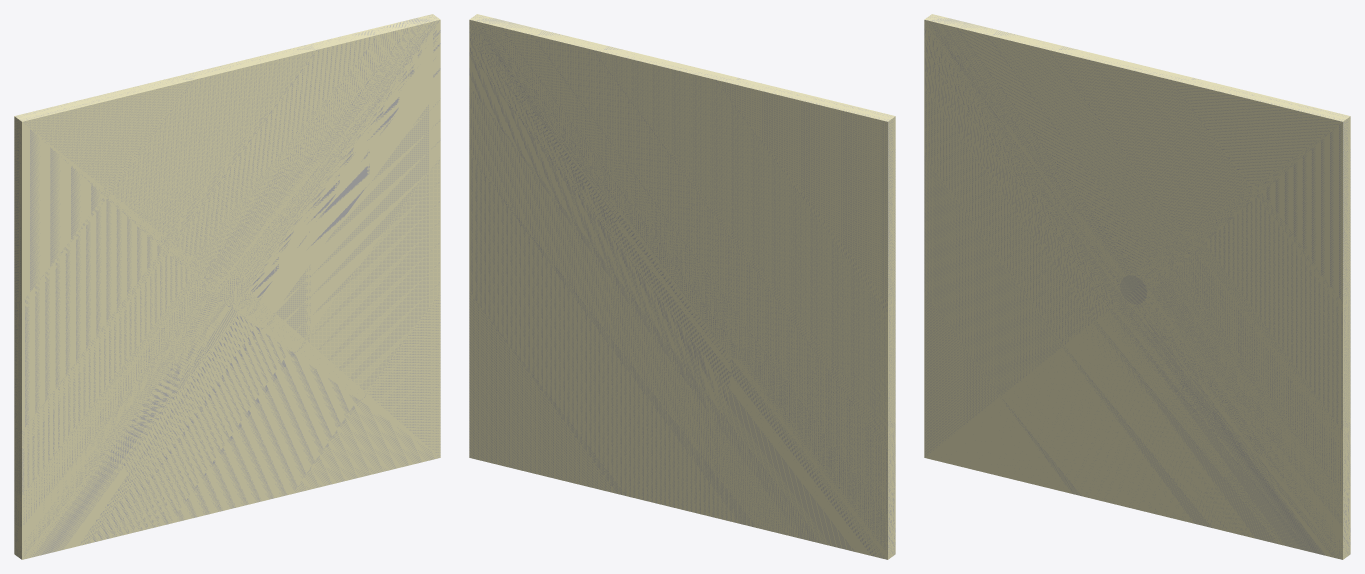
File: original-9.obj
3 renders of one model, left to right at view 1: azimuth 30°, elevation 25°; view 2: azimuth 150°, elevation 25°; view 3: azimuth 330°, elevation 25°, orthographic.
Visible parts, largest first — view 1: Face1/Face/mesh4/mesh4-geometry#mesh4-geometry; view 2: Face1/Face/mesh4/mesh4-geometry#mesh4-geometry; view 3: Face1/Face/mesh4/mesh4-geometry#mesh4-geometry.
Part boxes in pixels (x1,y1,x2,y2): Face1/Face/mesh4/mesh4-geometry#mesh4-geometry: [14, 14, 440, 559]; Face1/Face/mesh4/mesh4-geometry#mesh4-geometry: [469, 14, 895, 559]; Face1/Face/mesh4/mesh4-geometry#mesh4-geometry: [924, 14, 1350, 559].
Size of the model in its own units: 1.28 by 1.28 by 0.0412.
